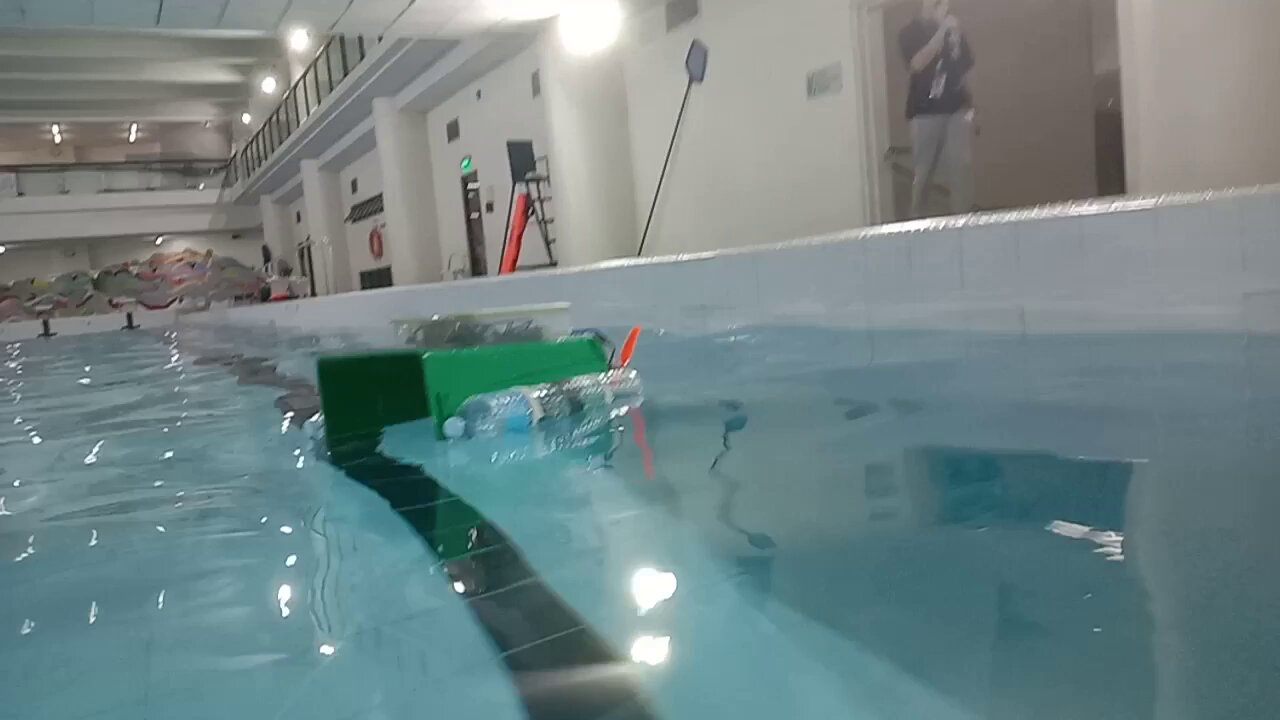drone: (316, 303, 641, 443)
